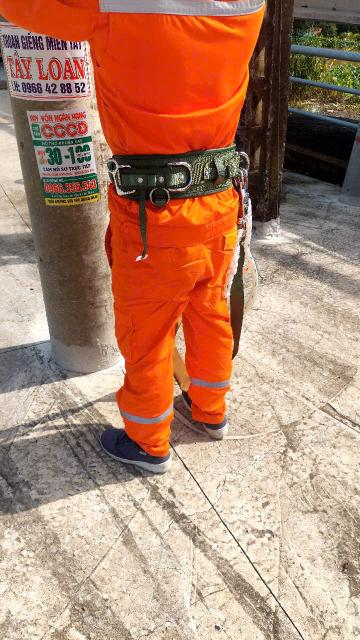shoes: (86, 423, 176, 473), (176, 382, 243, 448)
